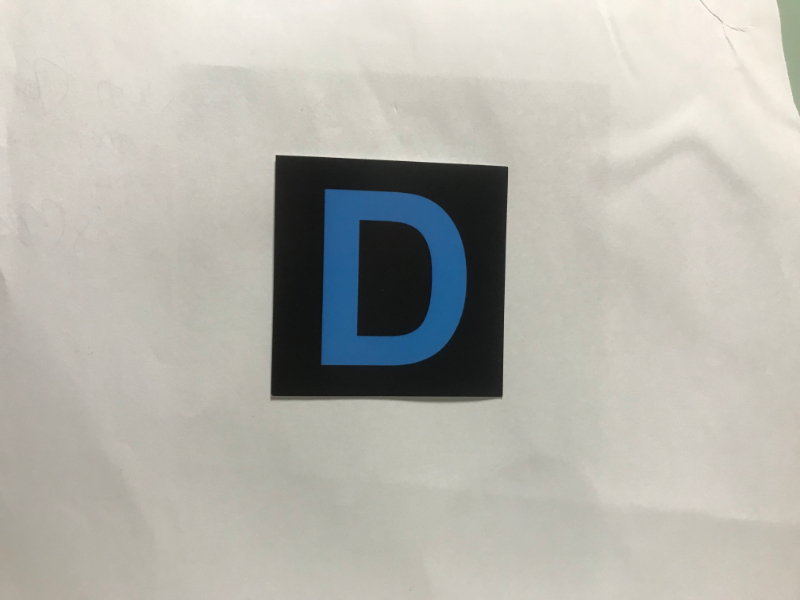D-14: (282, 169, 498, 391)
